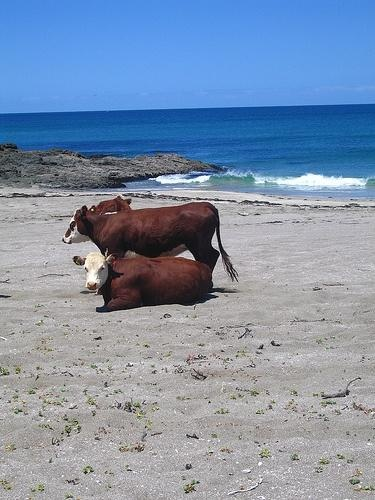cow: (58, 202, 241, 295), (71, 252, 216, 314)
